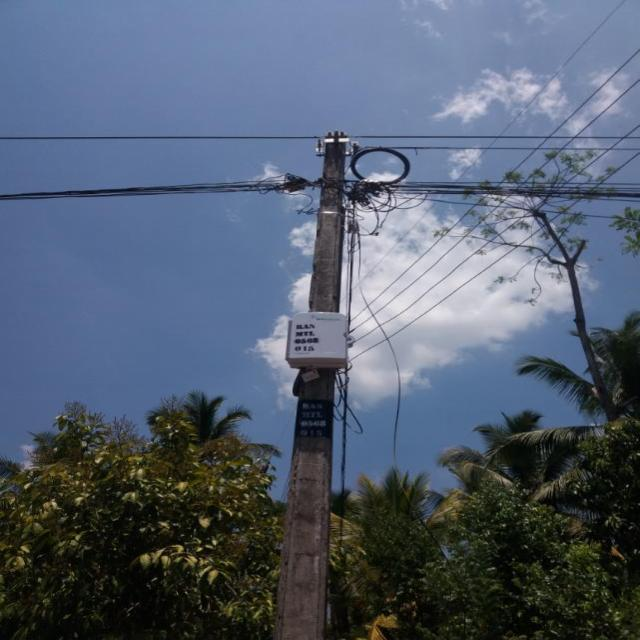light_pole: (267, 130, 370, 640)
